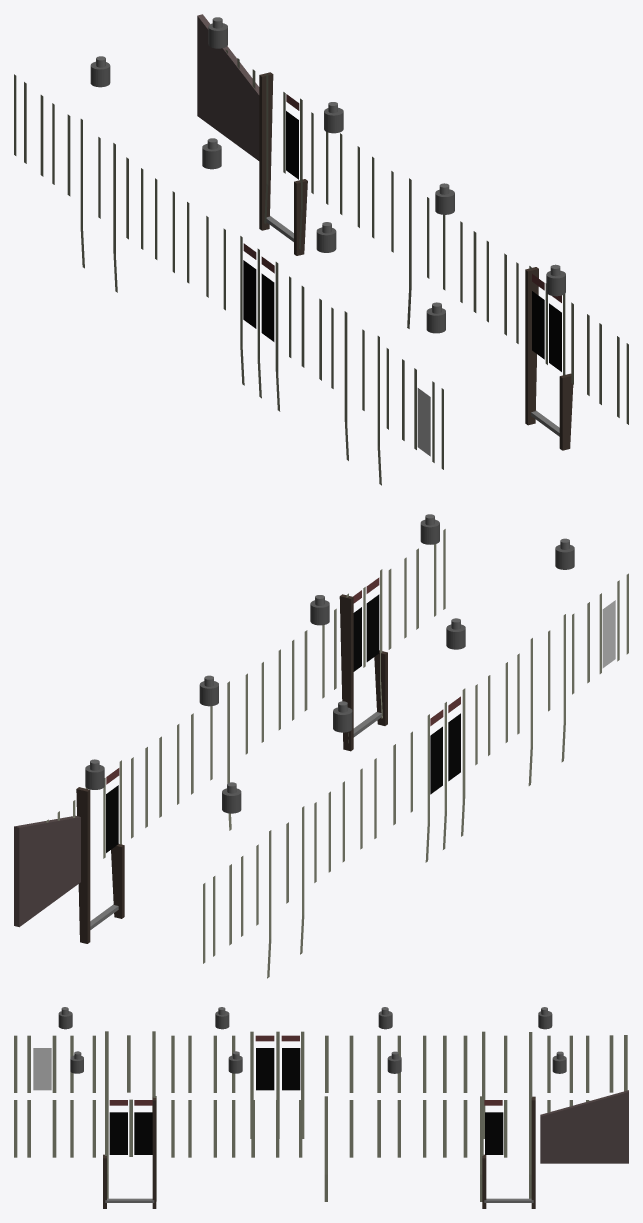
The model's file is mr-48ft-clerestory-tpo-gubbins.dae.
3 renders of one model, top to bottom at view 1: azimuth 30°, elevation 25°; view 2: azimuth 150°, elevation 25°; view 3: azimuth 270°, elevation 25°, orthographic. The views are drawn at different scales.
Parts seen in each view (by area): view 1: Cube_018, Cube_023_001, Cube_023_002, Cube_021_001, Cube_021, Plane_2196_003, Plane_2196_002, Plane_2209_002, Plane_2244_002, Plane_2231_002, Plane_2231_003; view 2: Cube_018, Cube_023_001, Cube_023_002, Cube_021, Plane_2209_002, Plane_2231_002, Cube_021_001, Plane_2196_002, Plane_2196_003, Plane_2244_002; view 3: Cube_018, Plane_2209_002, Plane_2231_002, Plane_2244_002, Plane_2231_003, Plane_2196_002, Plane_2196_003, Cube_023_001, Cube_023_002, Plane_2230_002, Plane_2198_003, Plane_2247_002 (+5 smaller).
Boxes of the visible parts, box(x1,y1,x2,y2) form: Cube_018: box(197, 14, 259, 160); Cube_023_001: box(259, 72, 273, 230); Cube_023_002: box(525, 267, 538, 425); Cube_021_001: box(559, 373, 573, 450); Cube_021: box(294, 179, 307, 255); Plane_2196_003: box(243, 260, 256, 328); Plane_2196_002: box(261, 273, 274, 341); Plane_2209_002: box(417, 388, 430, 456); Plane_2244_002: box(286, 111, 298, 179); Plane_2231_002: box(549, 303, 561, 371); Plane_2231_003: box(532, 291, 544, 359); Cube_018: box(14, 815, 80, 927); Cube_023_001: box(76, 787, 90, 943); Cube_023_002: box(339, 594, 353, 751); Cube_021: box(111, 844, 124, 918); Plane_2209_002: box(602, 600, 615, 668); Plane_2231_002: box(366, 594, 379, 661); Cube_021_001: box(374, 650, 387, 725); Plane_2196_002: box(448, 713, 460, 781); Plane_2196_003: box(430, 726, 442, 794); Plane_2244_002: box(106, 785, 118, 852); Cube_018: box(540, 1090, 628, 1163); Plane_2209_002: box(33, 1048, 51, 1090); Plane_2231_002: box(109, 1112, 127, 1154); Plane_2244_002: box(485, 1112, 503, 1154); Plane_2231_003: box(134, 1112, 152, 1154); Plane_2196_002: box(256, 1048, 274, 1090); Plane_2196_003: box(282, 1048, 300, 1090); Cube_023_001: box(531, 1096, 535, 1208); Cube_023_002: box(152, 1097, 156, 1208); Plane_2230_002: box(324, 1096, 327, 1201); Plane_2198_003: box(301, 1031, 304, 1138); Plane_2247_002: box(480, 1096, 483, 1201).
Bounding box in the file's own units: 2.04 × 7.92 × 2.06.
